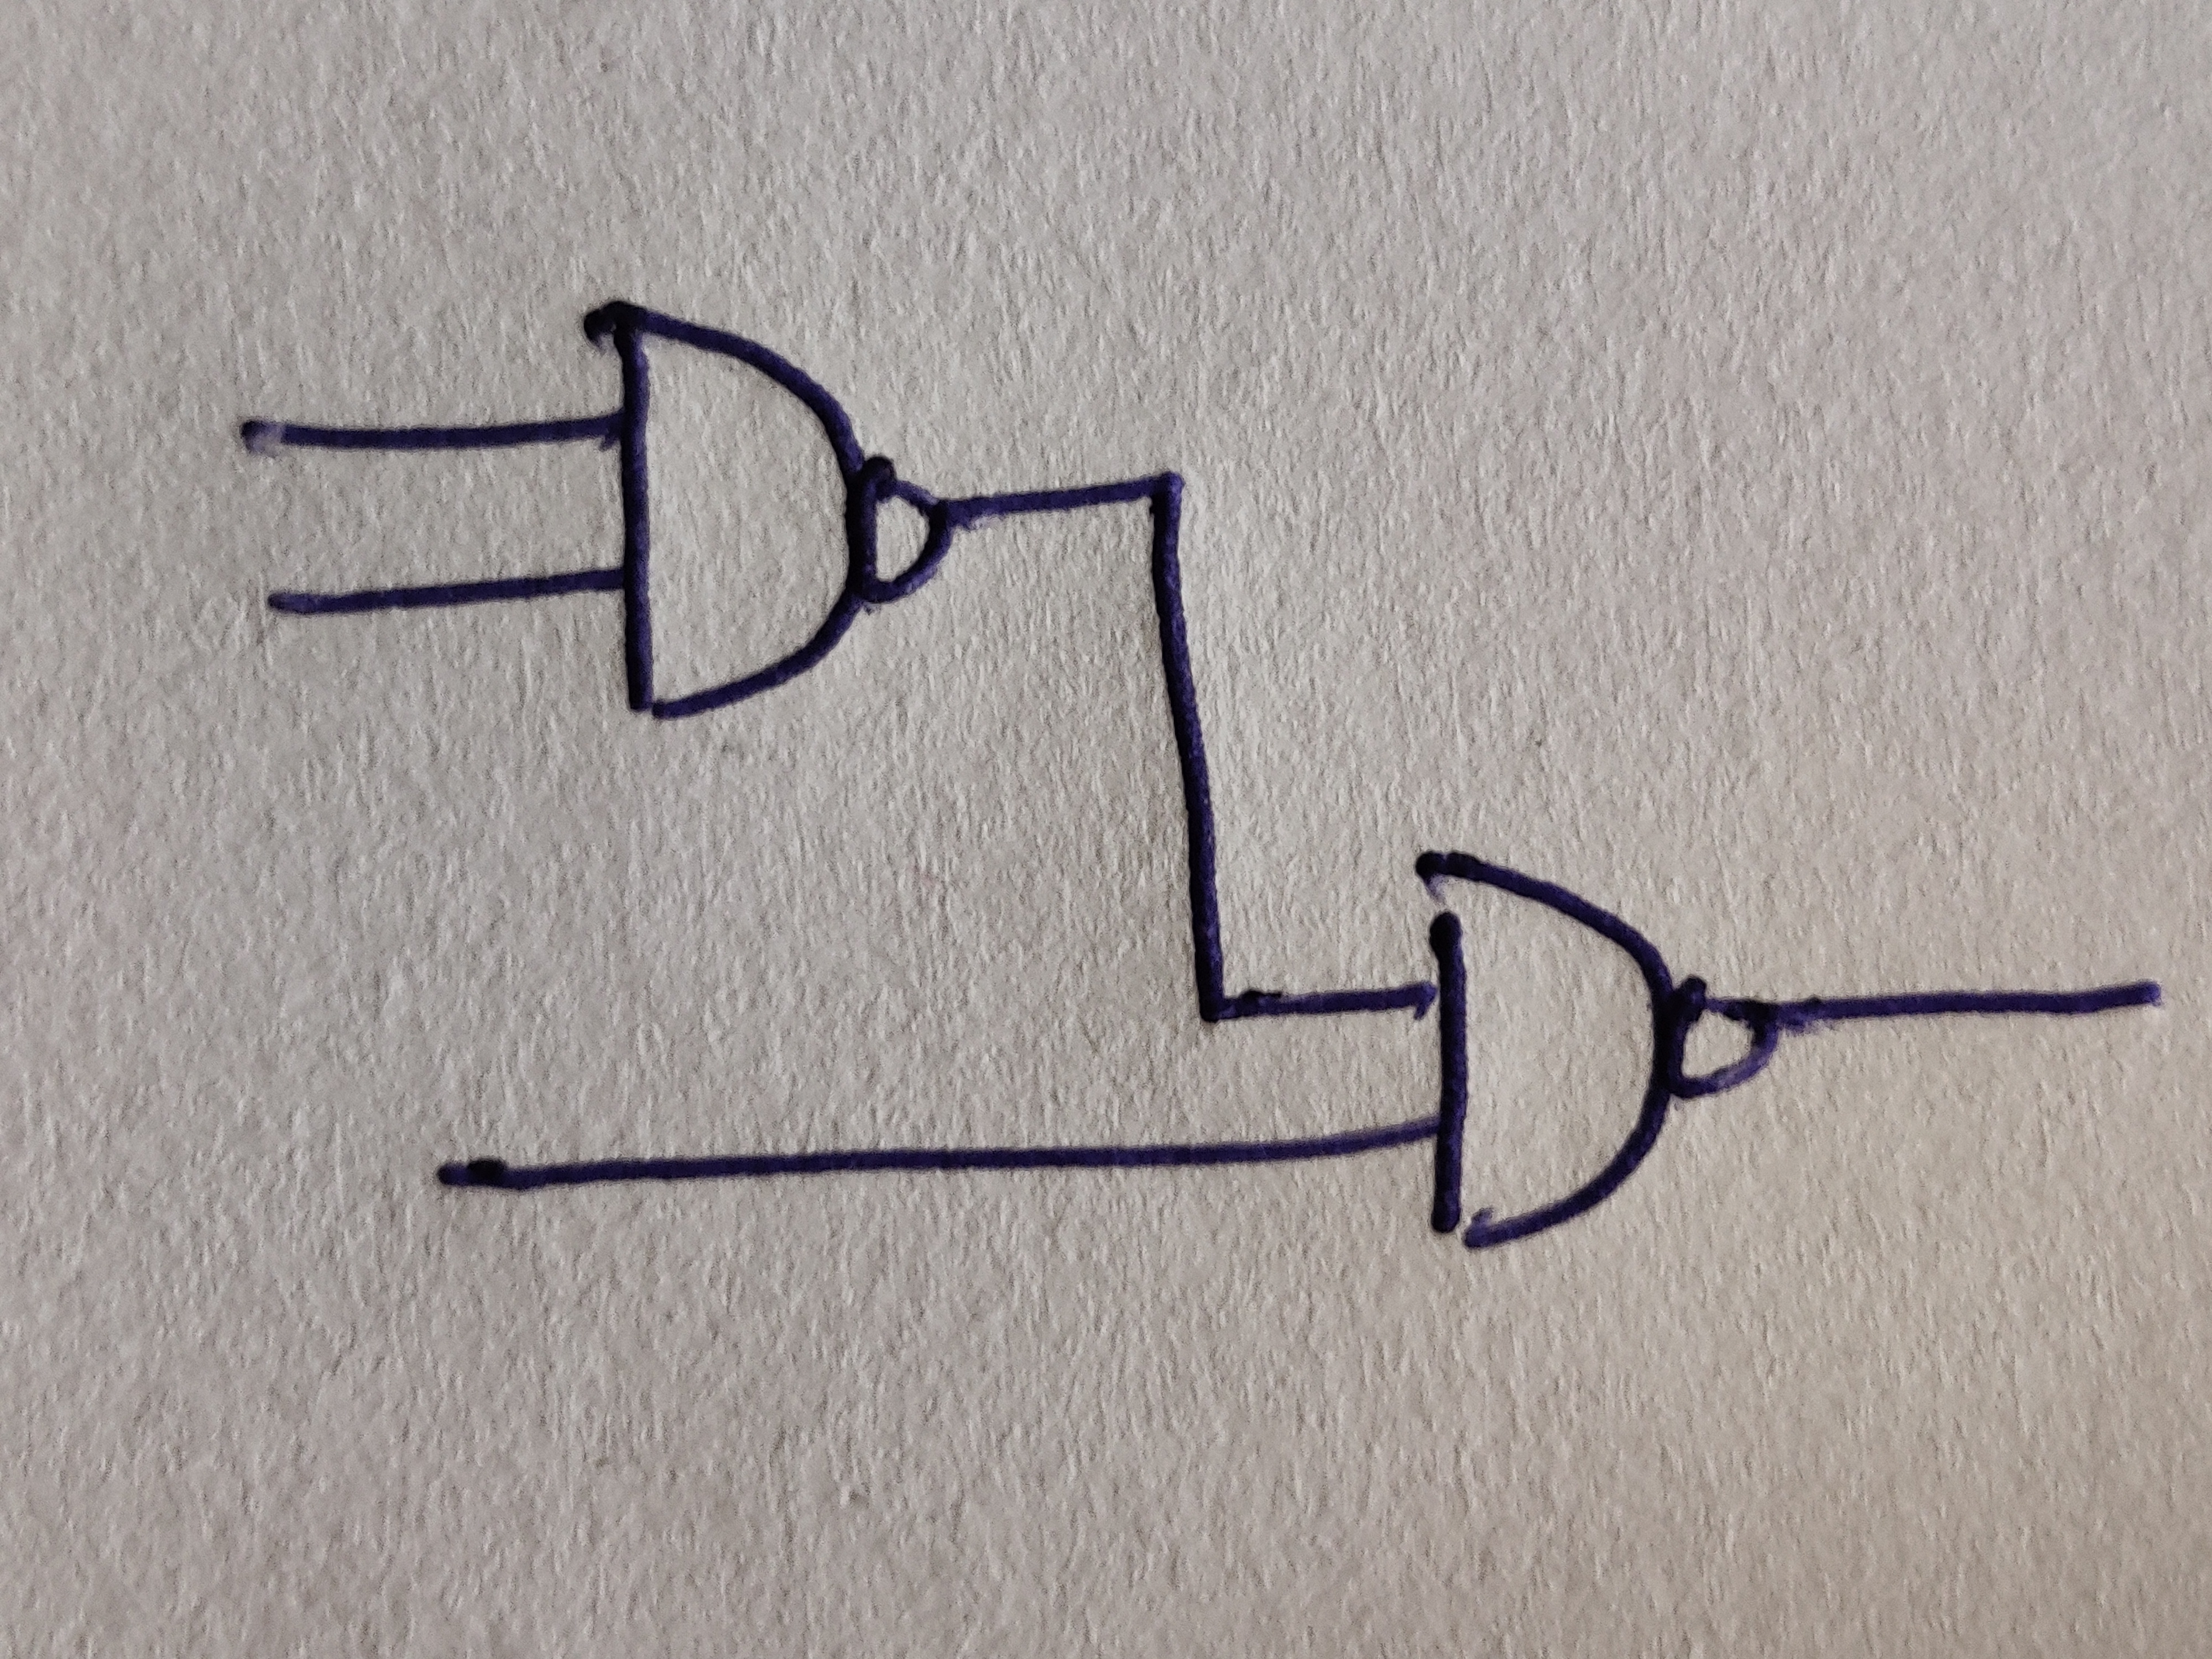and: (583, 303, 866, 720), (1414, 852, 1674, 1249)
not: (1670, 976, 1780, 1101), (862, 453, 949, 601)
